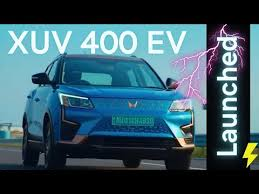XUV 400: (20, 53, 196, 175)
